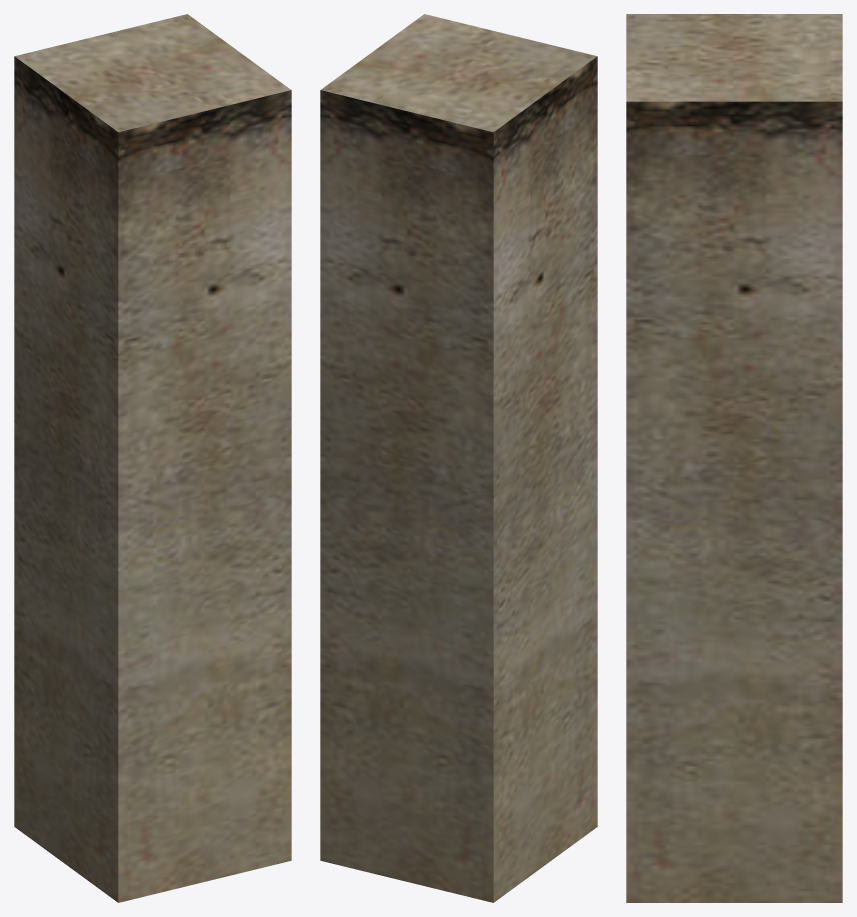
Rendered from Collumn.fbx.
3 views of the same model, side by side, from view 1: azimuth 30°, elevation 25°; view 2: azimuth 150°, elevation 25°; view 3: azimuth 270°, elevation 25° (orthographic). The views are drawn at different scales.
Visible parts, largest first — view 1: Column; view 2: Column; view 3: Column.
Boxes of the visible parts, bbox=[...] form: Column: bbox=[14, 14, 291, 902]; Column: bbox=[320, 14, 597, 902]; Column: bbox=[626, 14, 842, 902].
Bounding box in the file's own units: 50.08 × 213 × 52.08.
1 material, 1 textured.
